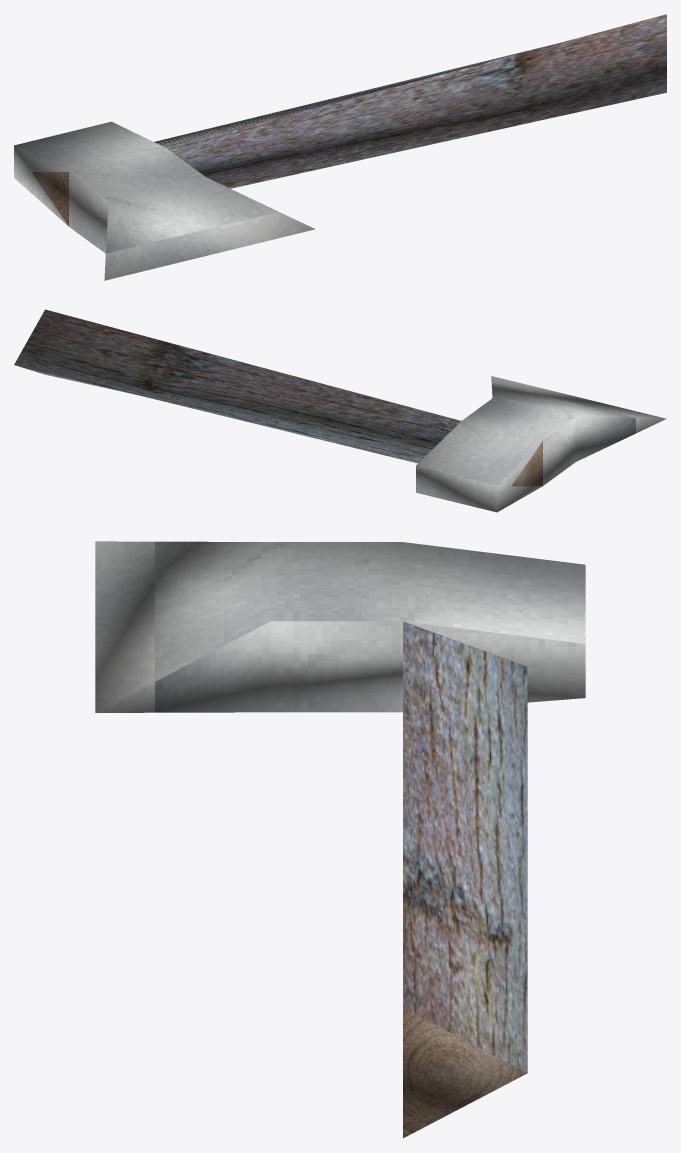
Rendered from Axe_1.fbx.
3 views of the same model, one above another, from view 1: azimuth 30°, elevation 25°; view 2: azimuth 150°, elevation 25°; view 3: azimuth 270°, elevation 25° (orthographic). The views are drawn at different scales.
Visible parts, largest first — view 1: Axe_1; view 2: Axe_1; view 3: Axe_1.
Part boxes in pixels (box(x1,y1,x2,y2)): Axe_1: box(14, 14, 666, 280); Axe_1: box(14, 309, 666, 512); Axe_1: box(95, 541, 585, 1138).
Size of the model in its own units: 1.7 by 0.1947 by 0.662.
